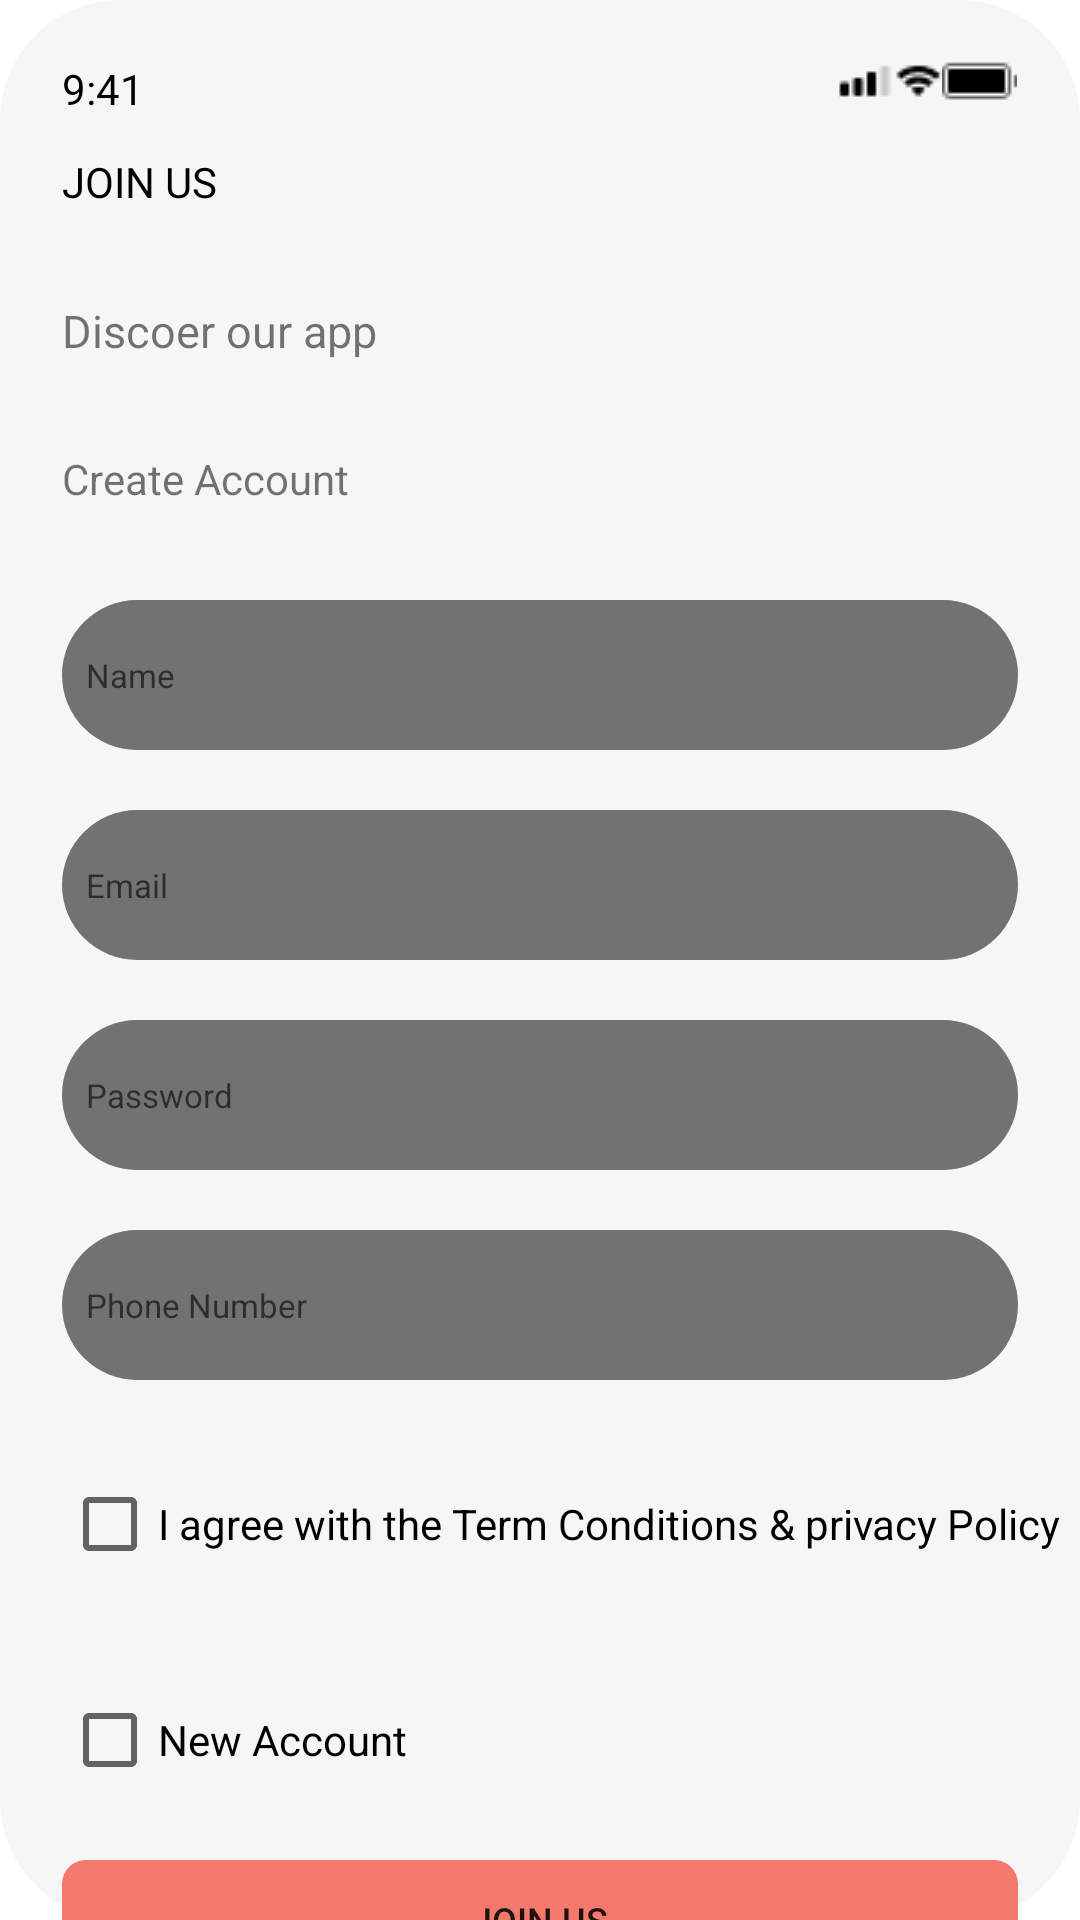

Named icons in this screenshot (1080px×1920px) and their bounding boxes, (x1, y1, x2, y2):
battery: (942, 62, 1017, 100)
signal: (839, 66, 889, 97)
wifisignal: (896, 65, 940, 97)
